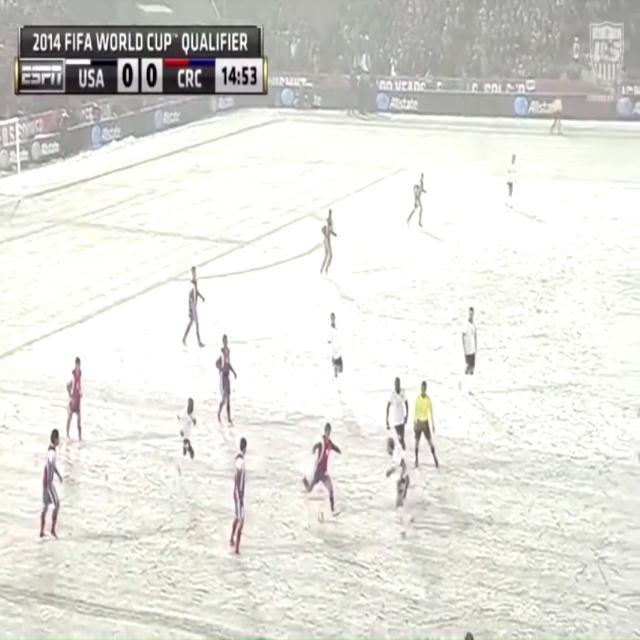ball: (316, 507, 327, 530)
player: (298, 412, 346, 511), (36, 414, 72, 545), (229, 438, 261, 585), (382, 432, 418, 546), (171, 397, 203, 489), (211, 334, 242, 426), (384, 371, 412, 466), (63, 353, 89, 452), (183, 265, 208, 362), (457, 301, 480, 398), (325, 307, 349, 399), (317, 210, 343, 292), (405, 171, 429, 239), (506, 145, 522, 222)
referee: (414, 376, 438, 482), (548, 94, 566, 149)
